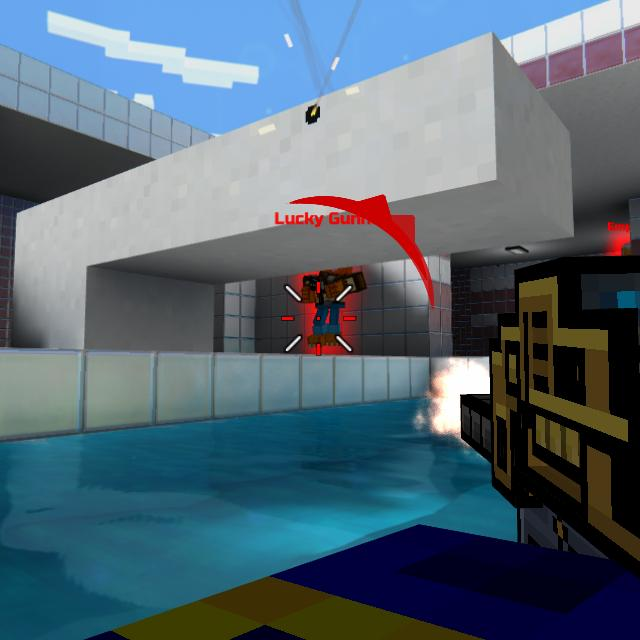Enemy: (305, 270, 368, 352), (611, 242, 634, 257)
